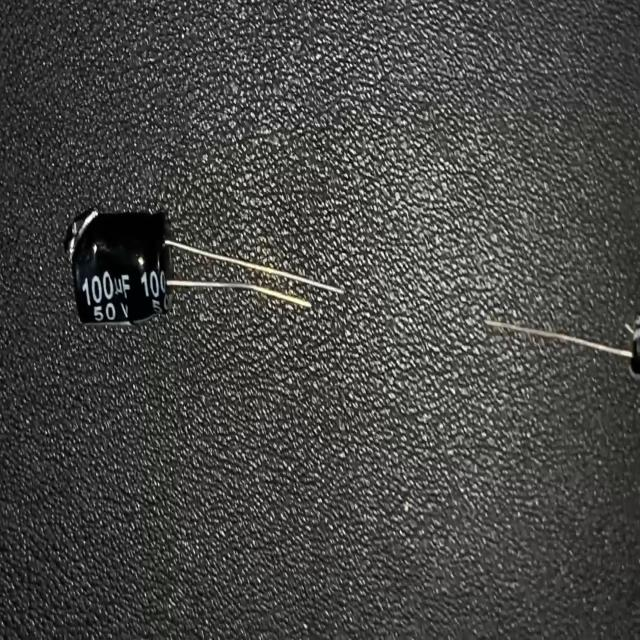capacitor: (62, 202, 344, 329)
cracked: (80, 242, 144, 298), (64, 205, 101, 268)
